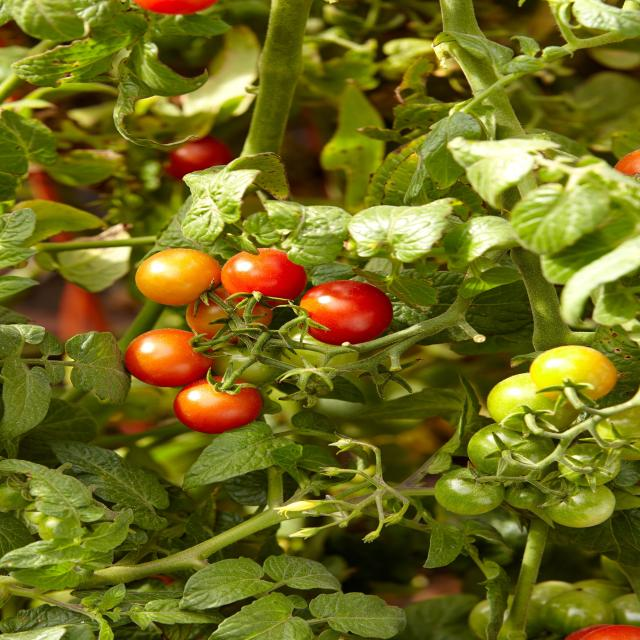fine: (526, 346, 620, 410), (133, 252, 216, 304)
overripe: (298, 279, 394, 345), (220, 242, 309, 305), (173, 378, 263, 436), (128, 329, 215, 386)
unripe: (482, 376, 583, 435), (465, 424, 545, 480), (542, 482, 623, 532), (434, 470, 506, 520), (559, 442, 621, 486), (597, 409, 640, 464)
